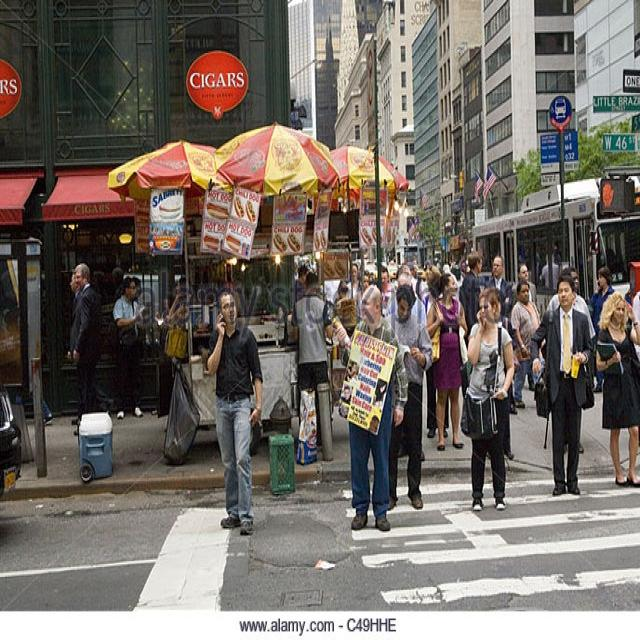body: (330, 282, 410, 534), (526, 275, 595, 497), (202, 286, 263, 537), (382, 282, 434, 511), (465, 286, 515, 511), (160, 272, 281, 358), (545, 265, 598, 457), (423, 272, 470, 452), (290, 270, 334, 454), (71, 261, 103, 438), (71, 262, 101, 437), (112, 276, 147, 421), (509, 278, 542, 408), (520, 239, 609, 281), (588, 265, 616, 394), (347, 258, 476, 284), (157, 294, 179, 418), (458, 249, 484, 352), (385, 264, 428, 326), (484, 253, 514, 318), (510, 262, 538, 306), (345, 260, 364, 308), (293, 264, 311, 302), (318, 192, 331, 216)
